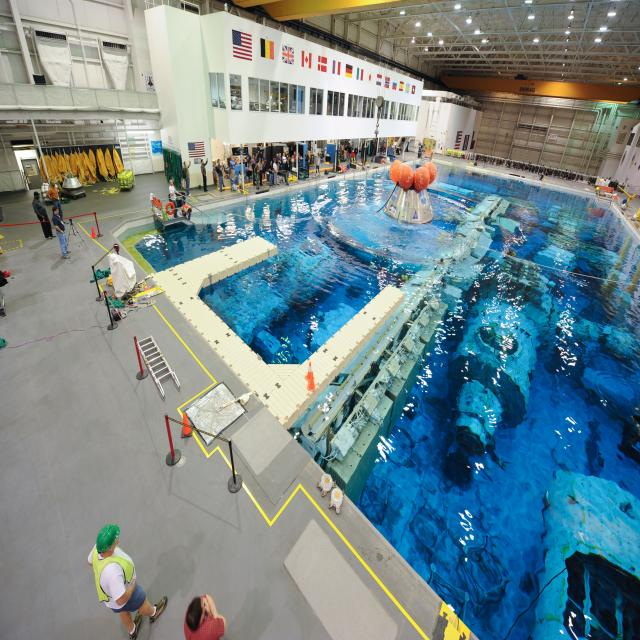Orange_colored_life-ring: (165, 201, 176, 216)
Orion_capsule_mockup_(WEST)_located_on_far_end_of_pool: (382, 158, 437, 226)
